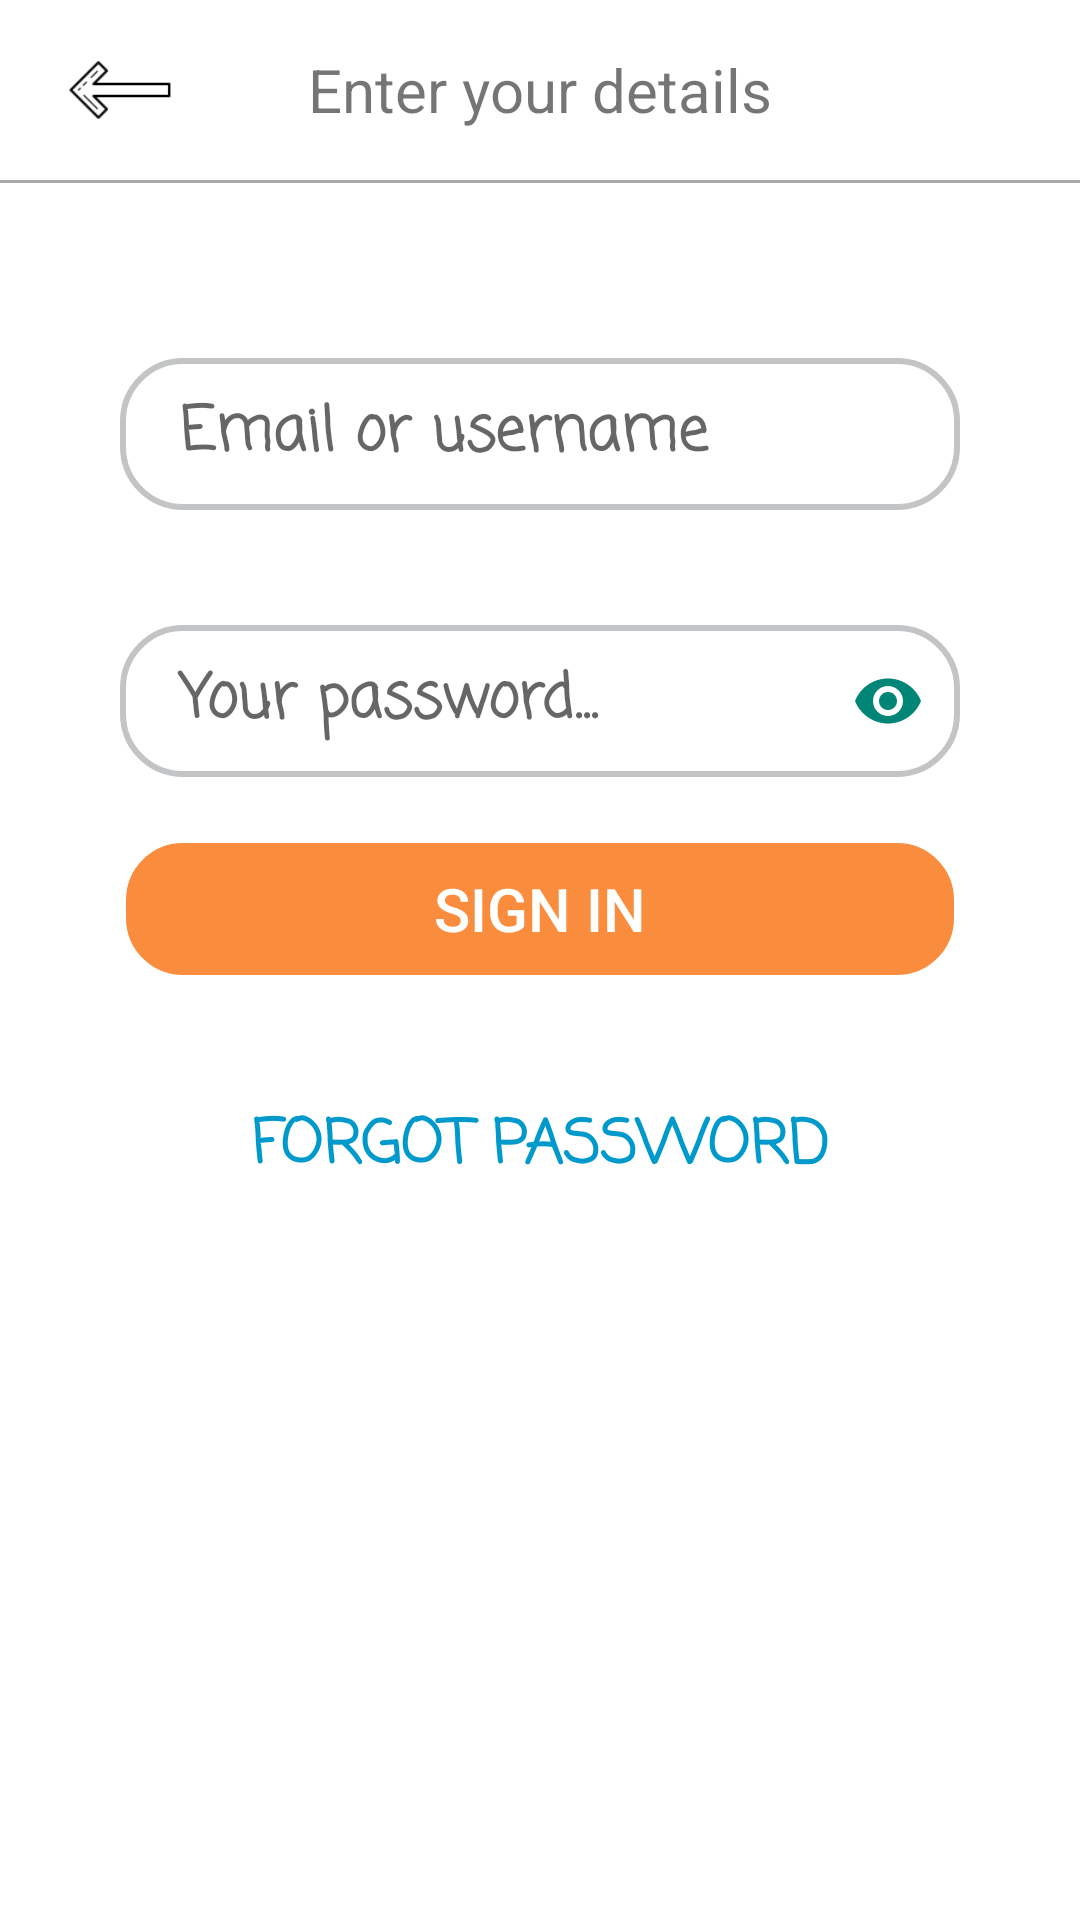

Screen size 1080×1920. Icon name, then its box in pixels as BBox(x1, y1, x2, y2):
leftarrow: BBox(69, 61, 171, 119)
